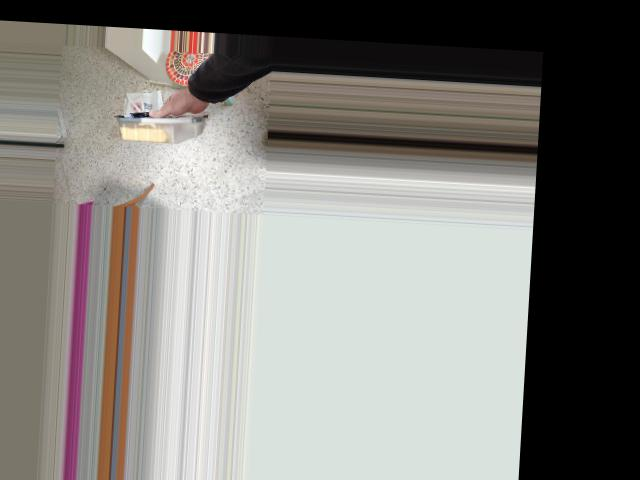cheese: (121, 68, 225, 169)
